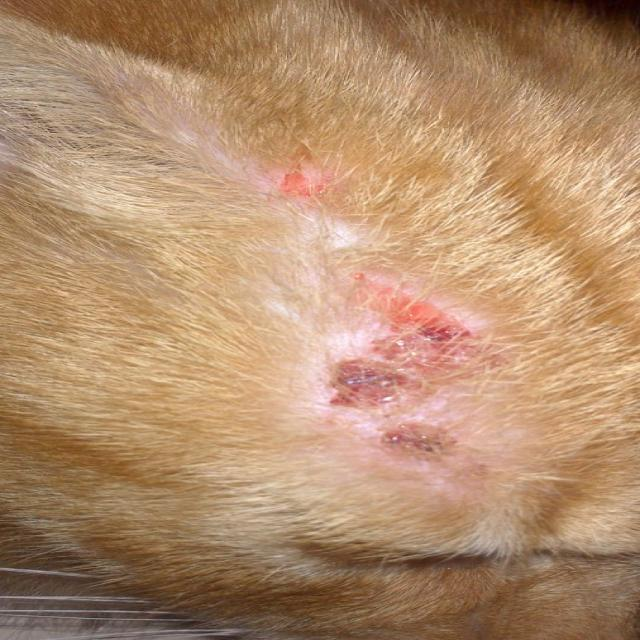hac lao: (274, 250, 536, 481), (226, 130, 381, 232)
